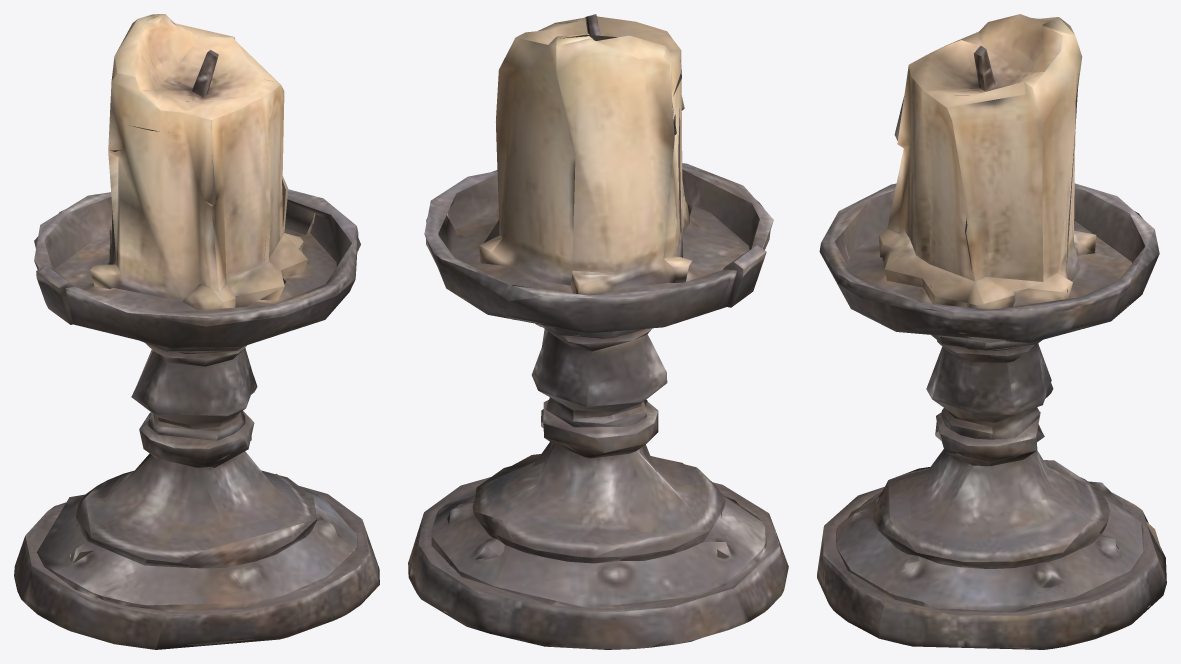
3 views of the same model, side by side, from view 1: azimuth 30°, elevation 25°; view 2: azimuth 150°, elevation 25°; view 3: azimuth 270°, elevation 25° (orthographic). The views are drawn at different scales.
Parts seen in each view (by area): view 1: geometry_0; view 2: geometry_0; view 3: geometry_0.
Part boxes in pixels (box(x1,y1,x2,y2)): geometry_0: box(14, 14, 379, 649); geometry_0: box(408, 14, 788, 649); geometry_0: box(817, 14, 1166, 649).
Size of the model in its own units: 0.1573 by 0.2591 by 0.1503.
Materials: 1 (1 with a texture image).
